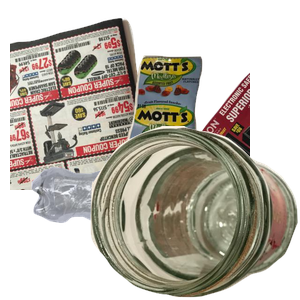glass: (90, 126, 300, 300)
paper: (10, 15, 250, 195)
plastic: (29, 165, 227, 300)
trash: (125, 53, 300, 201)
